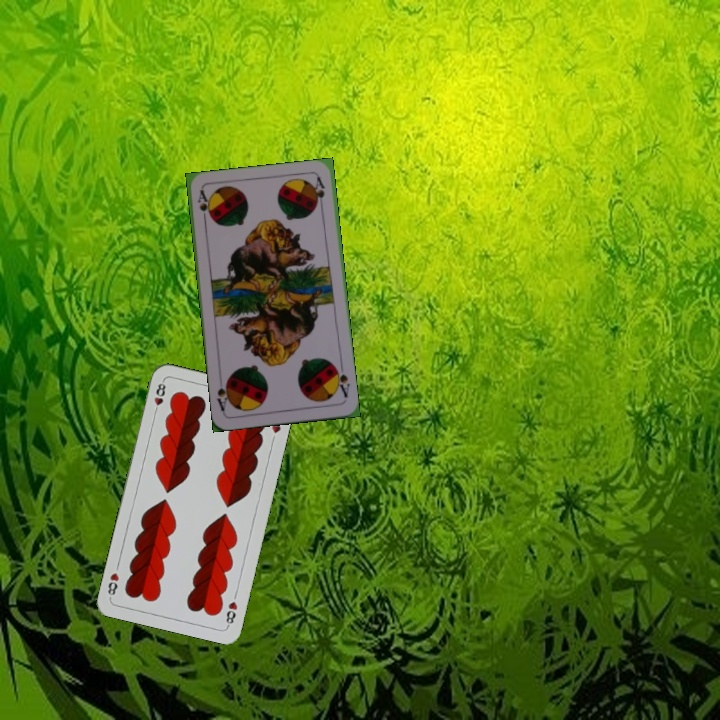H8: (150, 377, 168, 417), (222, 597, 240, 629)
SA: (331, 361, 352, 400), (194, 186, 213, 227)
